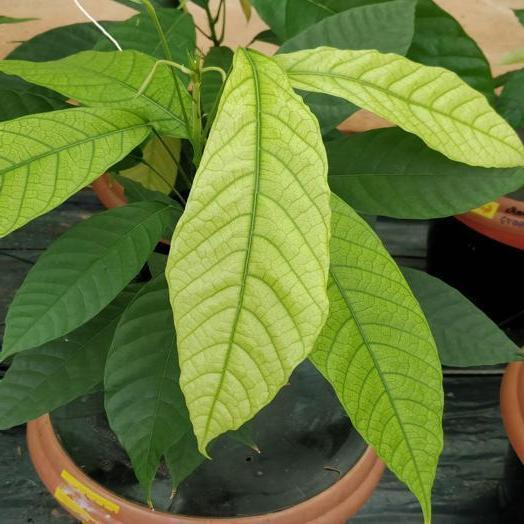Iron: (166, 51, 330, 454), (310, 197, 443, 523), (274, 47, 523, 167), (0, 108, 149, 236), (1, 50, 188, 136)
